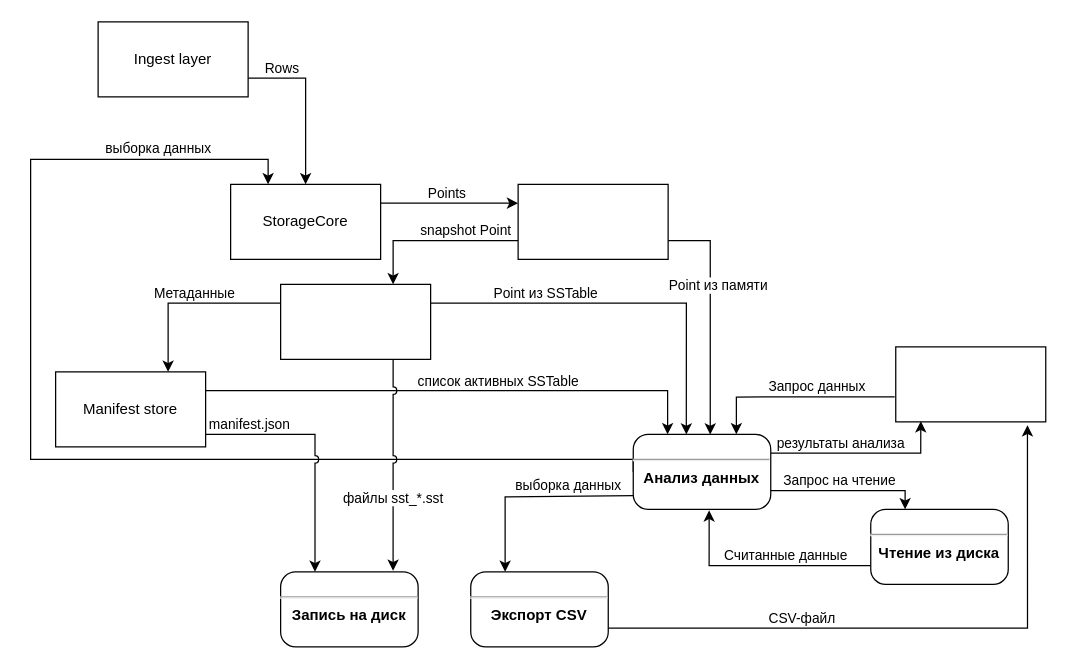
This 1069x669 diagram has some shape labels left out. Each missing label, with the box of its shape:
Memtable: (517, 183, 668, 259)
SSTable subsystem: (279, 283, 431, 359)
Аналитик: (894, 346, 1046, 422)
